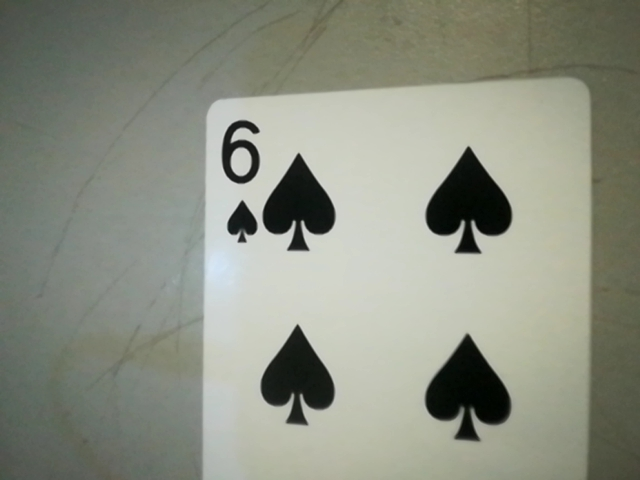ht 6: (207, 113, 267, 248)
